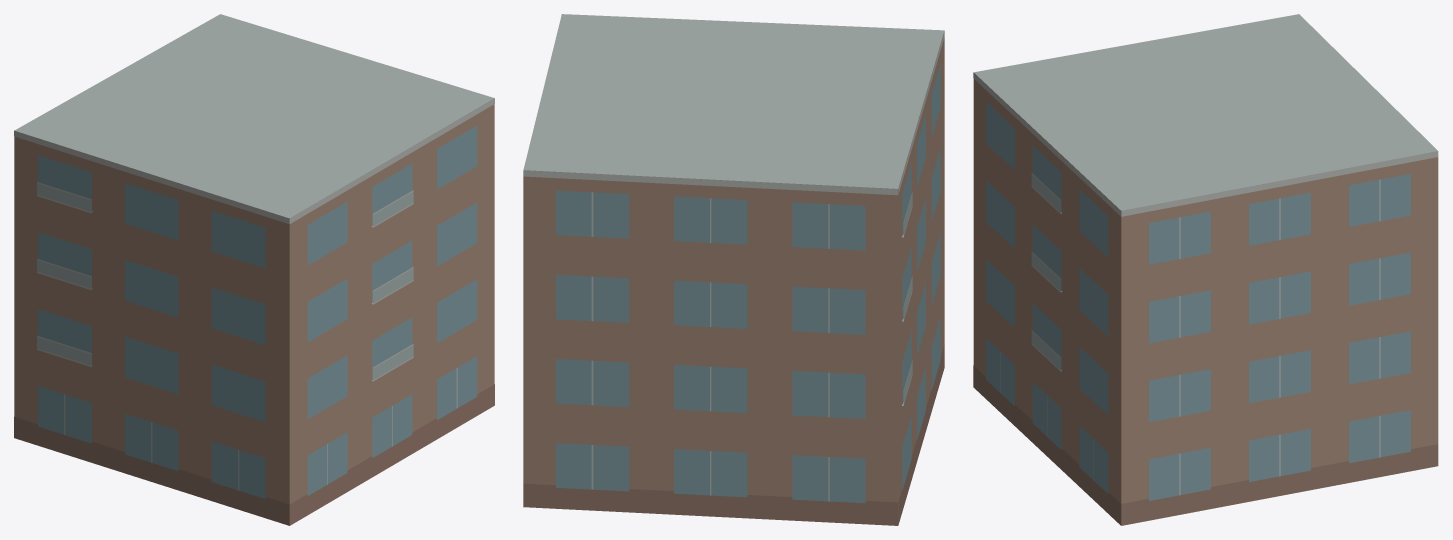
Rendered from survey-upis-32748090.glb.
3 views of the same model, side by side, from view 1: azimuth 30°, elevation 25°; view 2: azimuth 150°, elevation 25°; view 3: azimuth 270°, elevation 25° (orthographic). The views are drawn at different scales.
Parts seen in each view (by area): view 1: survey-upis-32748090.tmp; view 2: survey-upis-32748090.tmp; view 3: survey-upis-32748090.tmp.
Part boxes in pixels (x1=…): survey-upis-32748090.tmp: x1=14, y1=14, x2=494, y2=525; survey-upis-32748090.tmp: x1=523, y1=14, x2=944, y2=525; survey-upis-32748090.tmp: x1=973, y1=14, x2=1438, y2=525.
Size of the model in its own units: 17.3 by 12.9 by 17.26.
